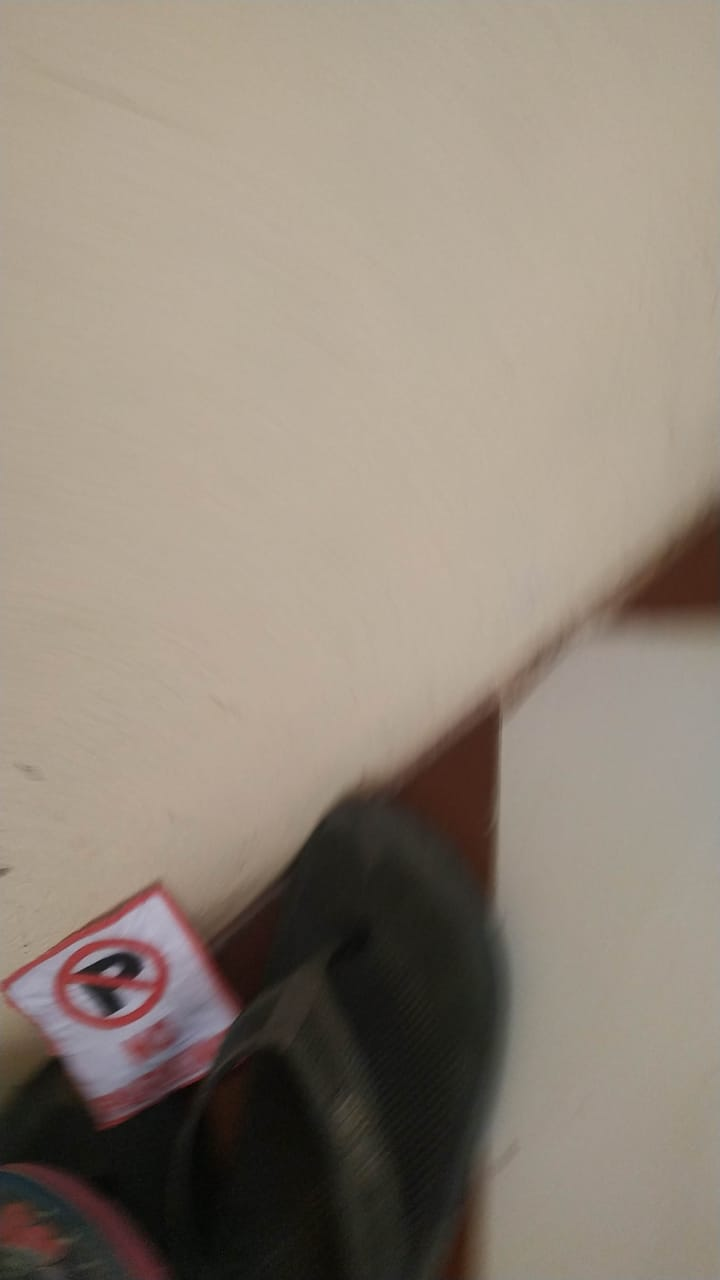NO PARKING: (1, 865, 281, 1133)
